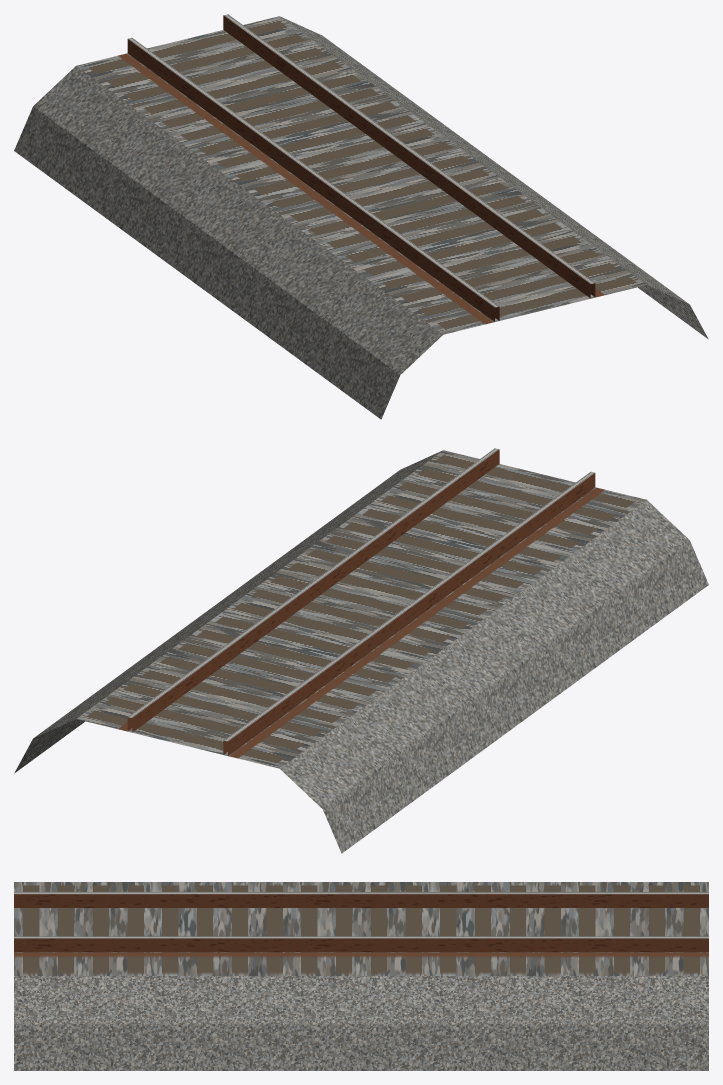
Rendered from rail_track_straight_10m_v2_lod1.glb.
3 views of the same model, one above another, from view 1: azimuth 30°, elevation 25°; view 2: azimuth 150°, elevation 25°; view 3: azimuth 270°, elevation 25° (orthographic). The views are drawn at different scales.
Parts seen in each view (by area): view 1: rail_track_straight_10m_v2_lod1; view 2: rail_track_straight_10m_v2_lod1; view 3: rail_track_straight_10m_v2_lod1.
Part boxes in pixels (x1,y1,x2,y2): rail_track_straight_10m_v2_lod1: [14, 14, 708, 419]; rail_track_straight_10m_v2_lod1: [14, 448, 708, 853]; rail_track_straight_10m_v2_lod1: [14, 882, 708, 1070].
Size of the model in its own units: 5.15 by 1.27 by 10.
Materials: 2 (2 with a texture image).
